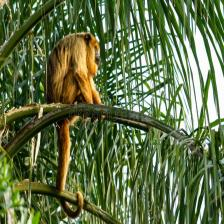monkey: (46, 22, 117, 129)
